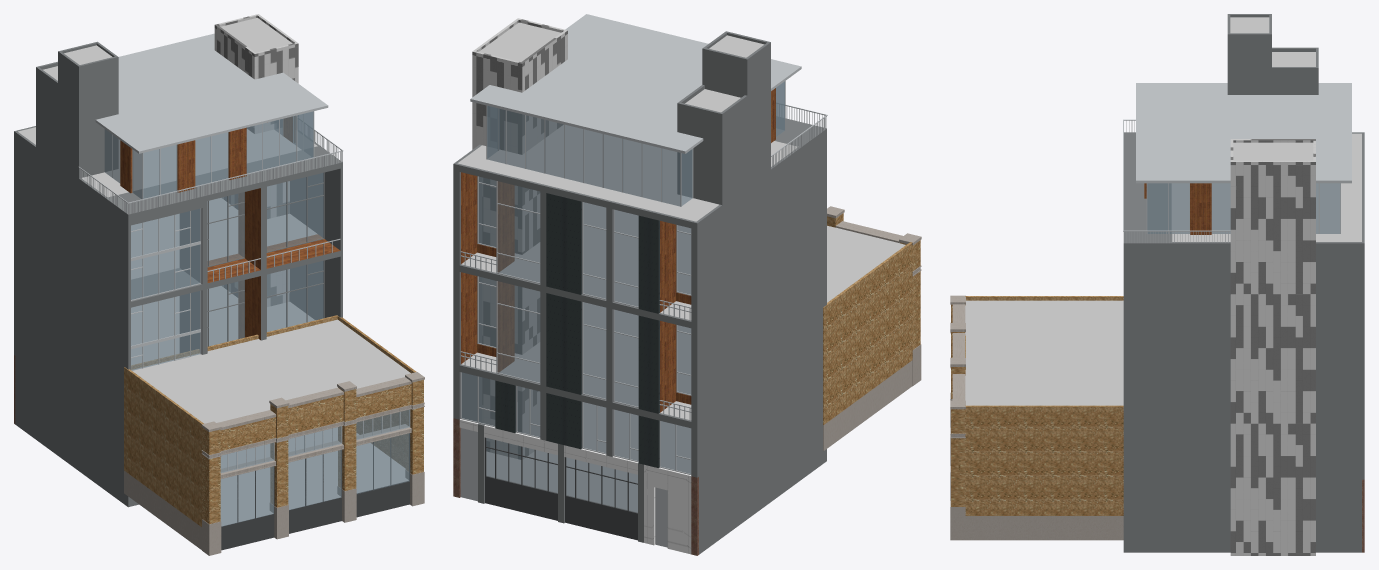
The model's file is A23_Building09.fbx.
The picture shows the model from 3 angles, left to right: view 1: azimuth 30°, elevation 25°; view 2: azimuth 150°, elevation 25°; view 3: azimuth 270°, elevation 25°; orthographic projection. The views are drawn at different scales.
Parts seen in each view (by area): view 1: BD1645, BD1649, BD1625, BD1647, BD1653, BD1633, BD1651, BD1610, BD1652, BD1626, BD1631, BD1616 (+16 smaller); view 2: BD1645, BD1649, BD1653, BD1647, BD1650, BD1652, BD1633, BD1651, BD1646, BD1648, BD1625, BD1626 (+3 smaller); view 3: BD1645, BD1652, BD1633, BD1647, BD1625, BD1653, BD1626, BD1649, BD1610, BD1655, BD1651, BD1611.
Boxes of the visible parts, x1,y1,x2,y2 form: BD1645: (14, 41, 342, 507); BD1649: (104, 111, 323, 370); BD1625: (131, 319, 410, 525); BD1647: (78, 33, 343, 368); BD1653: (18, 18, 317, 364); BD1633: (124, 315, 416, 526); BD1651: (120, 116, 340, 340); BD1610: (202, 380, 423, 524); BD1652: (214, 14, 298, 306); BD1626: (124, 470, 424, 555); BD1631: (356, 433, 409, 493); BD1616: (288, 450, 341, 509); BD1645: (453, 31, 826, 554); BD1649: (462, 81, 784, 512); BD1653: (457, 22, 798, 512); BD1647: (460, 14, 827, 547); BD1650: (495, 193, 659, 467); BD1652: (472, 18, 567, 459); BD1633: (823, 242, 912, 424); BD1651: (461, 88, 775, 412); BD1646: (459, 419, 691, 554); BD1648: (485, 437, 637, 540); BD1625: (827, 225, 905, 302); BD1626: (823, 354, 921, 451); BD1645: (1123, 14, 1364, 552); BD1652: (1230, 139, 1315, 555); BD1633: (965, 296, 1123, 515); BD1647: (1123, 83, 1351, 243); BD1625: (965, 300, 1123, 405); BD1653: (1172, 133, 1361, 241); BD1626: (950, 411, 1123, 540); BD1649: (1147, 183, 1340, 233); BD1610: (951, 304, 965, 506); BD1655: (1230, 17, 1315, 66); BD1651: (1144, 183, 1211, 234); BD1611: (950, 295, 965, 438).
Bounding box in the file's own units: 20.28 × 35.26 × 30.97.
